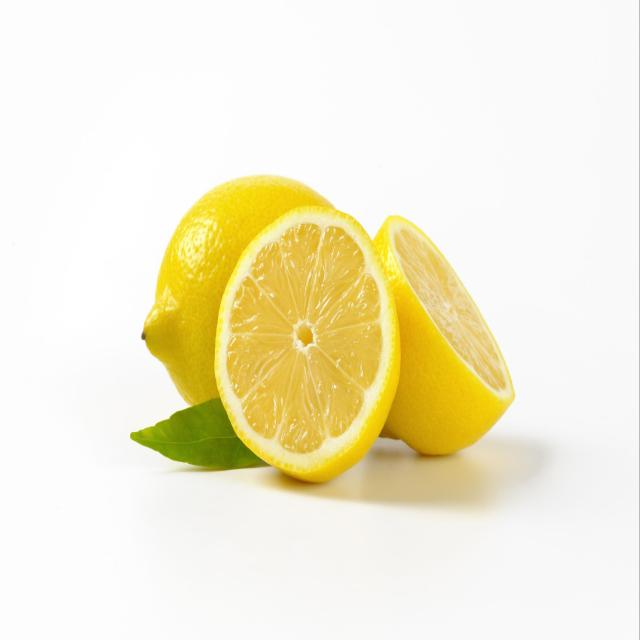lemon: (212, 200, 405, 488)
